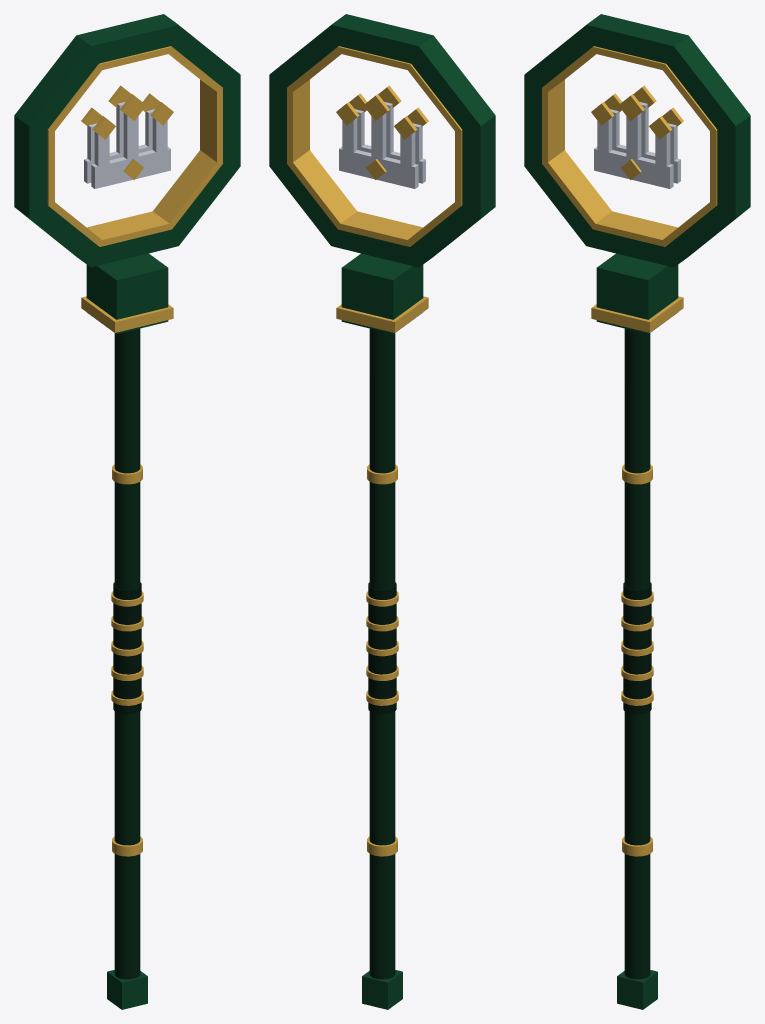
The picture shows the model from 3 angles, left to right: view 1: azimuth 30°, elevation 25°; view 2: azimuth 150°, elevation 25°; view 3: azimuth 330°, elevation 25°; orthographic projection.
Visible parts, largest first — view 1: dominion-staff; view 2: dominion-staff; view 3: dominion-staff.
Boxes of the visible parts, box(x1,y1,x2,y2) form: dominion-staff: box(14, 14, 240, 1009); dominion-staff: box(269, 14, 495, 1009); dominion-staff: box(524, 14, 750, 1009).
Bounding box in the file's own units: 0.3499 × 1.53 × 0.0966.
